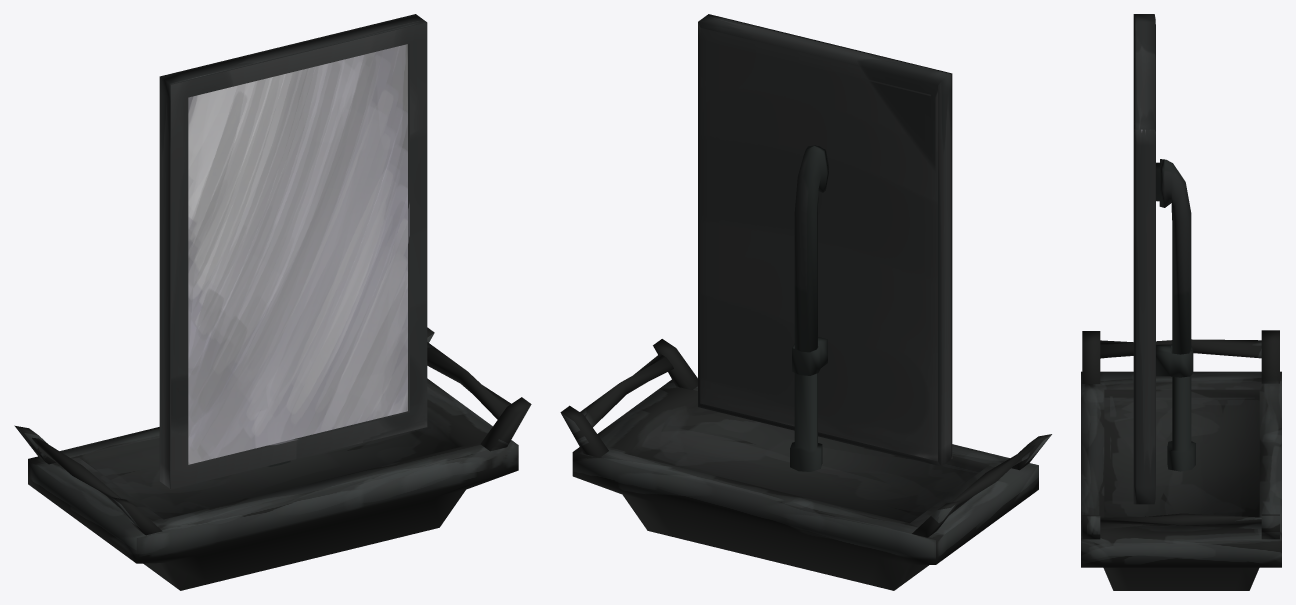
File: mirrorr.fbx
3 views of the same model, side by side, from view 1: azimuth 30°, elevation 25°; view 2: azimuth 150°, elevation 25°; view 3: azimuth 270°, elevation 25° (orthographic). The views are drawn at different scales.
Parts seen in each view (by area): view 1: Cube.003, Cube.005; view 2: Cube.003, Cube.005; view 3: Cube.005, Cube.003.
Boxes of the visible parts, <box> form: Cube.003: <box>159,14,427,489</box>; Cube.005: <box>14,327,531,590</box>; Cube.003: <box>698,14,952,471</box>; Cube.005: <box>560,339,1051,590</box>; Cube.005: <box>1081,330,1281,590</box>; Cube.003: <box>1133,14,1195,504</box>.
Size of the model in its own units: 335 by 388 by 153.
3 materials, 3 textured.
